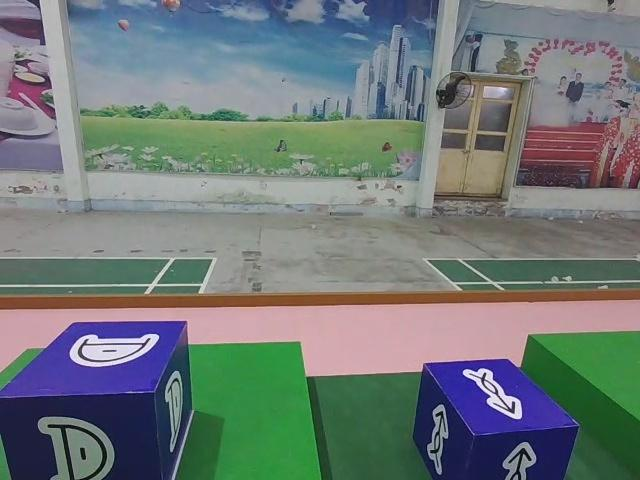R2 Real Blue: (3, 319, 190, 480), (415, 361, 579, 480)
